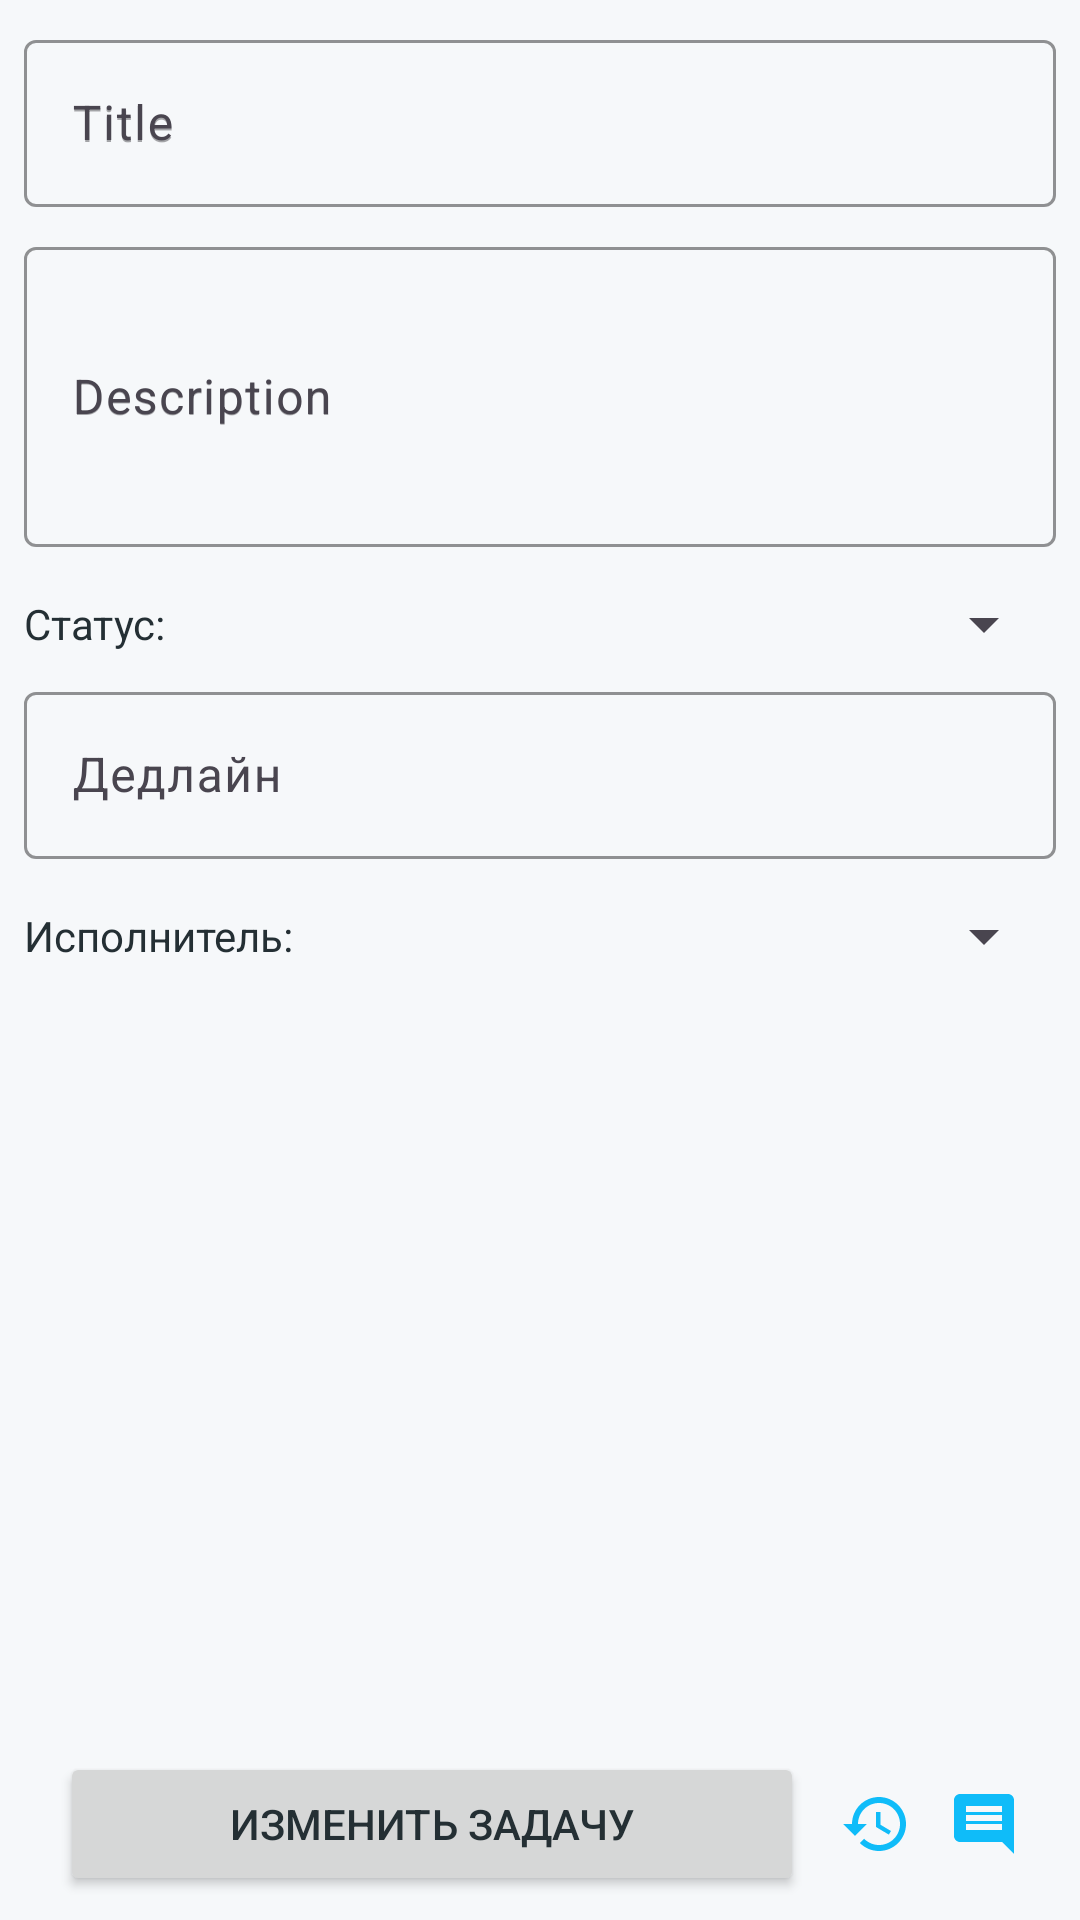

Icons on this 1080 × 1920 Android screen, each with the point to tap as (x,y):
comments: (984,1824)
history: (874,1824)
